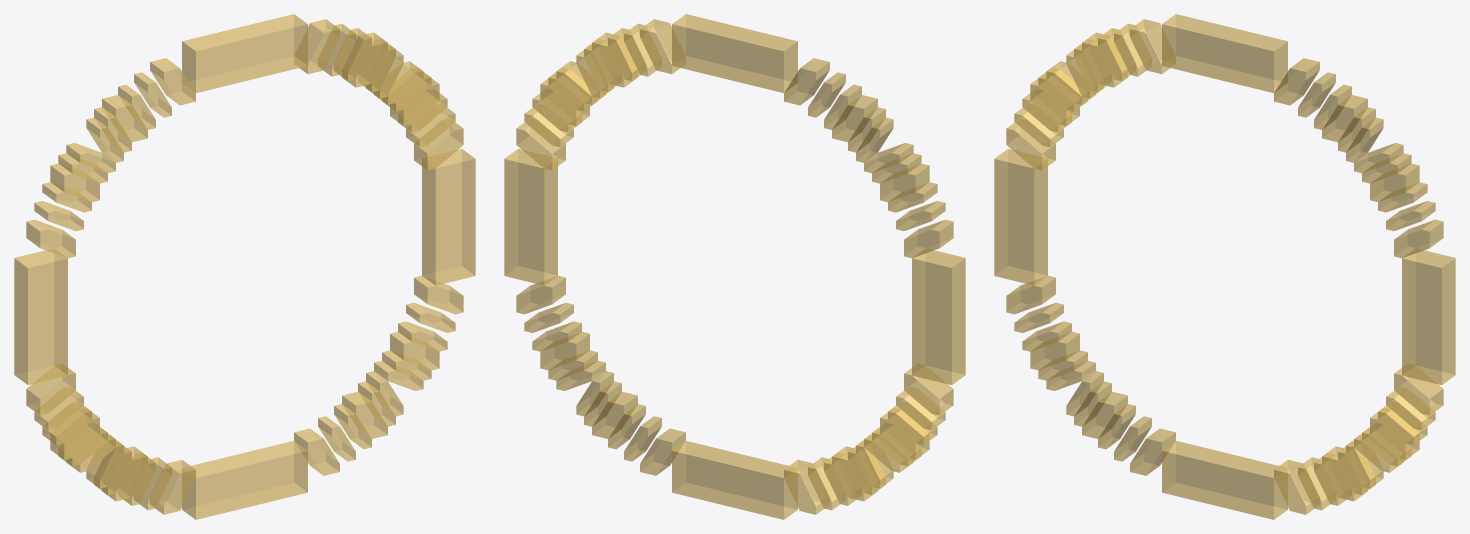
The model's file is base_wrap_removal_paths.glb.
The picture shows the model from 3 angles, left to right: view 1: azimuth 30°, elevation 25°; view 2: azimuth 150°, elevation 25°; view 3: azimuth 330°, elevation 25°; orthographic projection.
Parts seen in each view (by area): view 1: sector6_route32, sector0_route30, sector9_route39, sector3_route5, sector2_route10, sector8_route35, sector7_route33, sector1_route7, sector2_route20, sector7_route46, sector8_route4, sector1_route21 (+40 smaller); view 2: sector6_route32, sector0_route30, sector9_route39, sector3_route5, sector2_route10, sector8_route35, sector7_route33, sector1_route7, sector2_route20, sector7_route46, sector8_route4, sector1_route21 (+40 smaller); view 3: sector0_route30, sector6_route32, sector9_route39, sector3_route5, sector4_route27, sector10_route13, sector11_route40, sector5_route6, sector4_route37, sector11_route17, sector10_route50, sector5_route1 (+40 smaller).
Boxes of the visible parts, bbox=[...] form: sector6_route32: bbox=[14, 249, 67, 384]; sector0_route30: bbox=[422, 149, 475, 285]; sector9_route39: bbox=[182, 441, 307, 519]; sector3_route5: bbox=[182, 14, 307, 92]; sector2_route10: bbox=[294, 19, 339, 74]; sector8_route35: bbox=[150, 459, 195, 514]; sector7_route33: bbox=[26, 364, 75, 415]; sector1_route7: bbox=[414, 119, 463, 170]; sector2_route20: bbox=[342, 32, 387, 87]; sector7_route46: bbox=[50, 408, 99, 459]; sector8_route4: bbox=[102, 446, 147, 501]; sector1_route21: bbox=[390, 74, 439, 125]; sector6_route32: bbox=[912, 249, 965, 384]; sector0_route30: bbox=[504, 149, 557, 285]; sector9_route39: bbox=[672, 441, 797, 519]; sector3_route5: bbox=[672, 14, 797, 92]; sector2_route10: bbox=[640, 19, 685, 74]; sector8_route35: bbox=[784, 459, 829, 514]; sector7_route33: bbox=[904, 364, 953, 415]; sector1_route7: bbox=[516, 119, 565, 170]; sector2_route20: bbox=[592, 32, 637, 87]; sector7_route46: bbox=[880, 408, 929, 459]; sector8_route4: bbox=[832, 446, 877, 501]; sector1_route21: bbox=[540, 74, 589, 125]; sector0_route30: bbox=[1402, 249, 1455, 384]; sector6_route32: bbox=[994, 149, 1047, 285]; sector9_route39: bbox=[1162, 441, 1287, 519]; sector3_route5: bbox=[1162, 14, 1287, 92]; sector4_route27: bbox=[1130, 19, 1175, 74]; sector10_route13: bbox=[1274, 459, 1319, 514]; sector11_route40: bbox=[1394, 364, 1443, 415]; sector5_route6: bbox=[1006, 119, 1055, 170]; sector4_route37: bbox=[1082, 32, 1127, 87]; sector11_route17: bbox=[1370, 408, 1419, 459]; sector10_route50: bbox=[1322, 446, 1367, 501]; sector5_route1: bbox=[1030, 74, 1079, 125].
Bounding box in the file's own units: 560 × 560 × 30.
